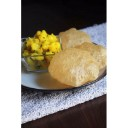poori: (48, 50, 96, 84), (73, 42, 107, 70), (59, 28, 91, 49)
